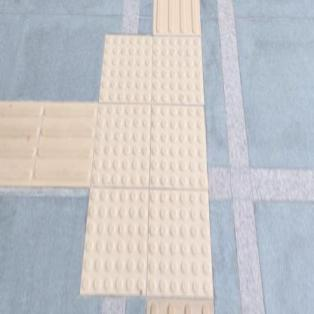Podoctatil: (71, 16, 251, 313), (0, 97, 89, 189), (153, 0, 216, 37), (145, 296, 214, 313)
